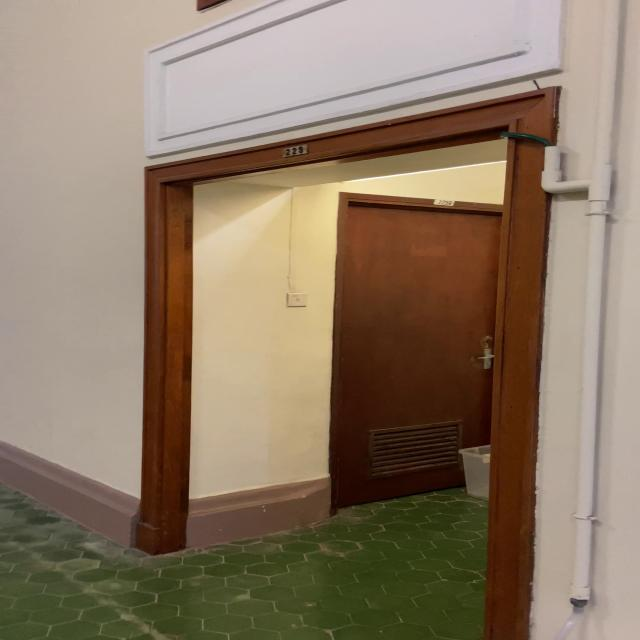room229: (280, 143, 310, 159)
